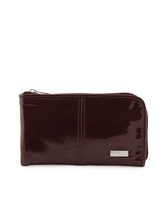other: (13, 87, 154, 170)
